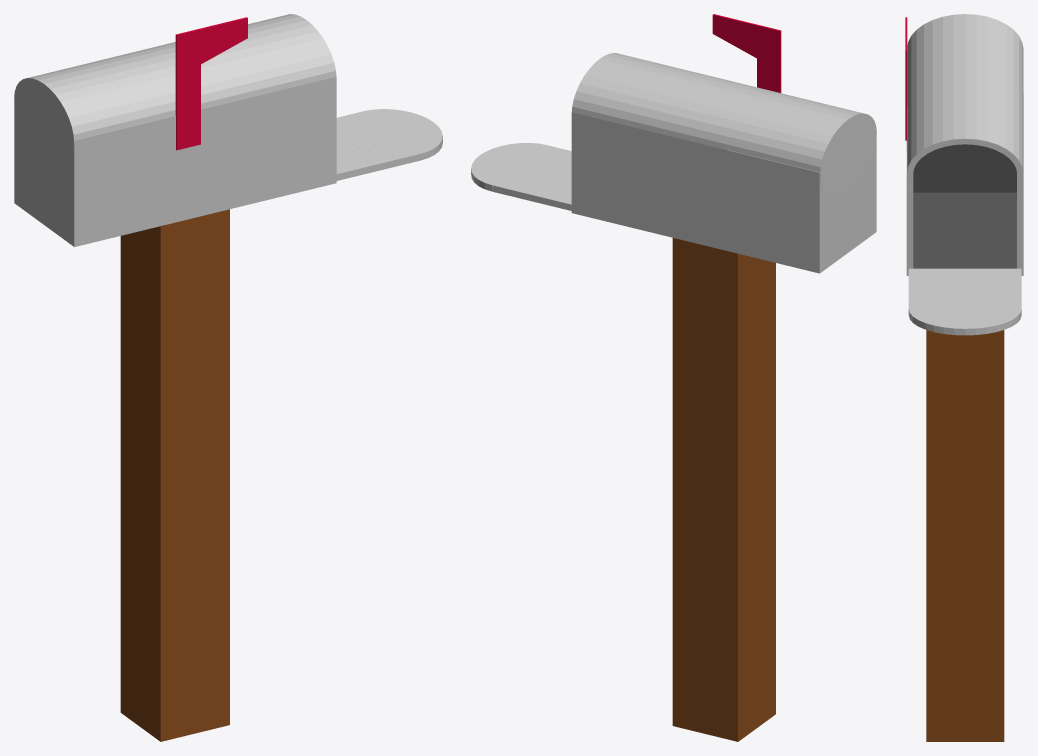
File: mailbox.fbx
The picture shows the model from 3 angles, left to right: view 1: azimuth 30°, elevation 25°; view 2: azimuth 150°, elevation 25°; view 3: azimuth 270°, elevation 25°; orthographic projection. The views are drawn at different scales.
Parts seen in each view (by area): view 1: Post, Box, Plane, UpThing; view 2: Post, Box, Plane, UpThing; view 3: Post, Box, Plane, UpThing.
Boxes of the visible parts, x1=… form: Post: x1=120, y1=209, x2=229, y2=741; Box: x1=14, y1=14, x2=336, y2=246; Plane: x1=336, y1=109, x2=442, y2=180; UpThing: x1=175, y1=17, x2=247, y2=150; Post: x1=672, y1=238, x2=775, y2=741; Box: x1=571, y1=53, x2=876, y2=273; Plane: x1=471, y1=143, x2=571, y2=210; UpThing: x1=712, y1=14, x2=781, y2=92; Post: x1=926, y1=330, x2=1004, y2=741; Box: x1=906, y1=14, x2=1023, y2=275; Plane: x1=908, y1=268, x2=1021, y2=335; UpThing: x1=905, y1=17, x2=907, y2=140.
Bounding box in the file's own units: 1124 × 1966 × 304.
